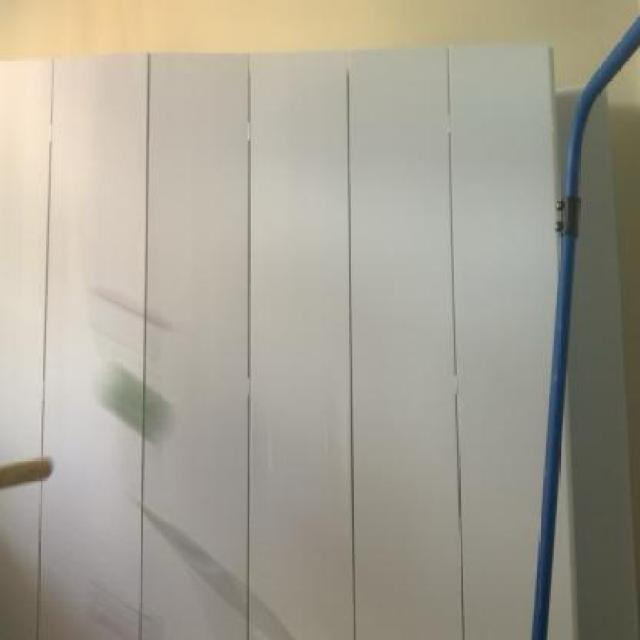baseball: (84, 352, 181, 456)
